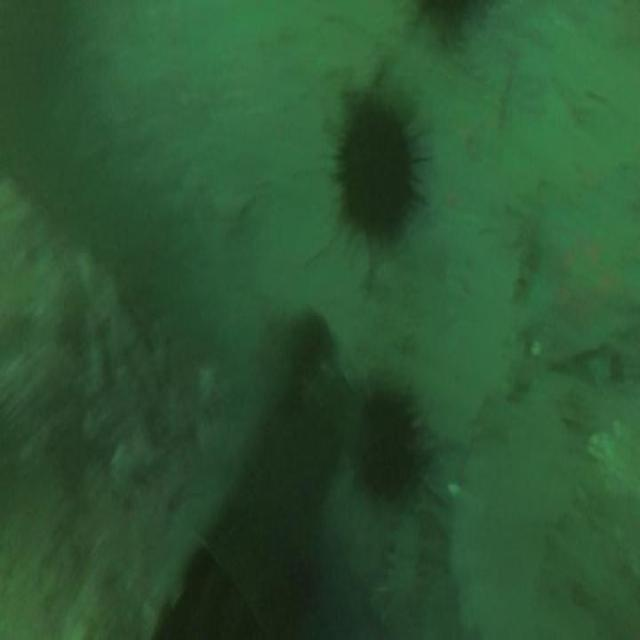echinus: (344, 104, 419, 236), (362, 393, 420, 501), (286, 308, 332, 389)
